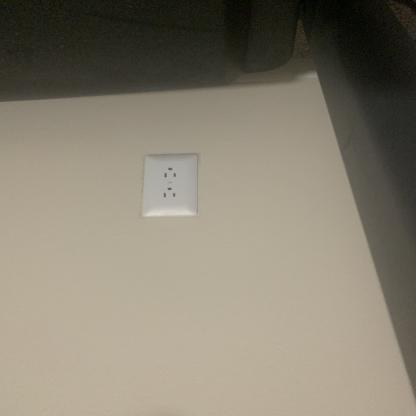OUTLET: (140, 154, 199, 217)
